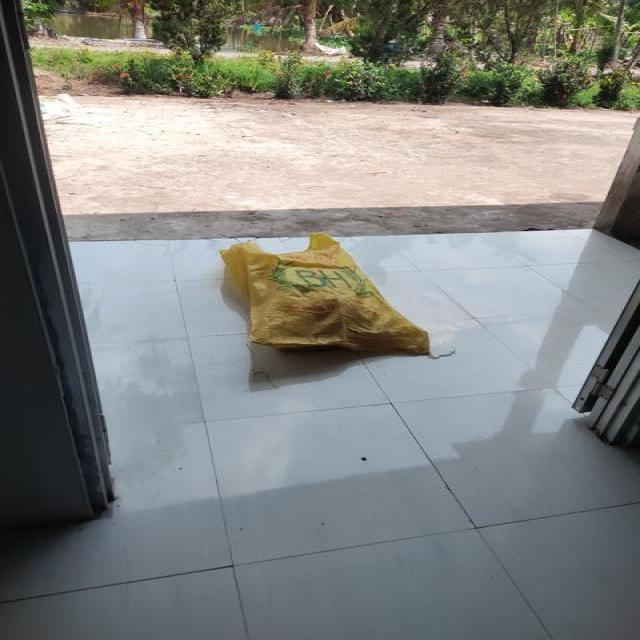gunny_bag: (221, 234, 431, 354)
